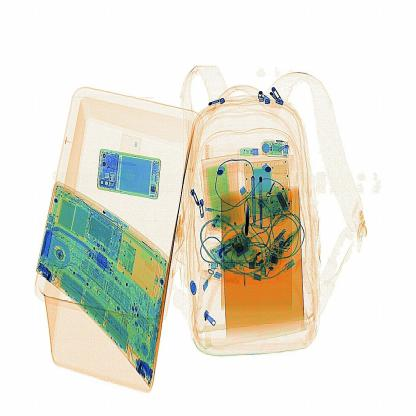wrench: (239, 196, 257, 243)
